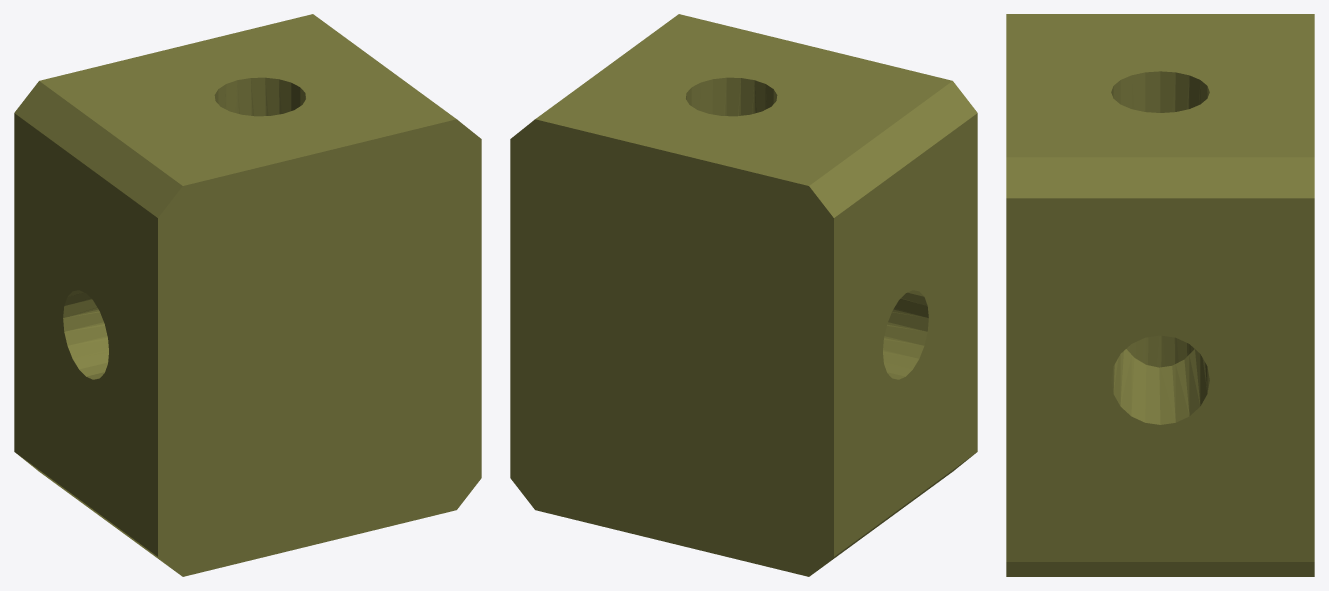
The model's file is RLEG_LINK1_mesh.dae.
3 renders of one model, left to right at view 1: azimuth 30°, elevation 25°; view 2: azimuth 150°, elevation 25°; view 3: azimuth 270°, elevation 25°, orthographic. The views are drawn at different scales.
Visible parts, largest first — view 1: RLEG_LINK1; view 2: RLEG_LINK1; view 3: RLEG_LINK1.
Boxes of the visible parts, <box> form: RLEG_LINK1: <box>14,14,481,576</box>; RLEG_LINK1: <box>510,14,977,576</box>; RLEG_LINK1: <box>1006,14,1314,576</box>.
Size of the model in its own units: 0.065 by 0.075 by 0.05.
